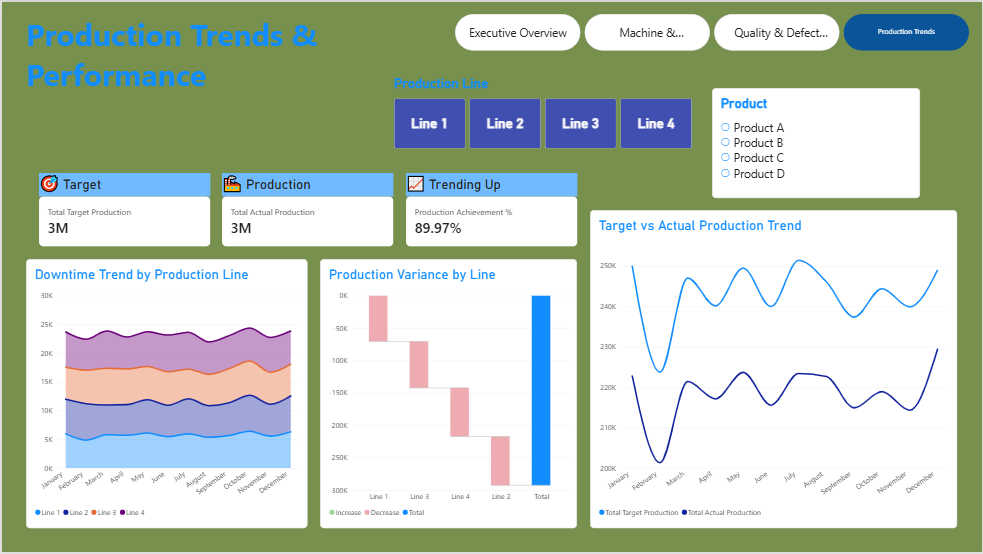

The page's visual inventory and layout, read from the dashboard file:
{"tool":"powerbi","page":{"name":"Production Trends","canvas":[1920,1080],"ordinal":3},"visuals":[{"type":"cardVisual","title":"🎯 Target","fields":{"Data":["manufacturing_production_data.Total Target Production"]},"box":[72,336,336,144],"z":0},{"type":"cardVisual","title":"🏭  Production","fields":{"Data":["manufacturing_production_data.Total Actual Production"]},"box":[432,336,336,144],"z":1},{"type":"cardVisual","title":"📈 Trending Up","fields":{"Data":["manufacturing_production_data.Production Achievement %"]},"box":[792,336,336,144],"z":2},{"type":"lineChart","title":"Target vs Actual Production Trend","fields":{"Category":["manufacturing_production_data.Date.Variation.Date Hierarchy.Month"],"Y":["manufacturing_production_data.Total Target Production","manufacturing_production_data.Total Actual Production"]},"box":[1152,408,720,624],"z":3},{"type":"stackedAreaChart","title":"Downtime Trend by Production Line","fields":{"Category":["manufacturing_production_data.Date.Variation.Date Hierarchy.Month"],"Y":["Sum(manufacturing_production_data.Downtime_Minutes)"],"Series":["manufacturing_production_data.Production_Line"]},"box":[48,504,552,528],"z":4},{"type":"waterfallChart","title":"Production Variance by Line","fields":{"Category":["manufacturing_production_data.Production_Line"],"Y":["manufacturing_production_data.Production Variance"]},"box":[624,504,504,528],"z":5},{"type":"advancedSlicerVisual","title":"Production Line","fields":{"Values":["manufacturing_production_data.Production_Line"]},"box":[768,144,672,144],"z":6},{"type":"listSlicer","fields":{"Values":["manufacturing_production_data.Product"]},"box":[1392,168,408,216],"z":7},{"type":"textbox","box":[48,24,696,216],"z":8},{"type":"pageNavigator","box":[888,24,1008,72],"z":9}]}

Visuals, with their boxes in screenshot pixels (x1, y1, x2, y2), scaled from the page's 1920x1080 canvas onto the 983x554 screenshot:
"🎯 Target" cardVisual: (37,172,209,246)
"🏭  Production" cardVisual: (221,172,393,246)
"📈 Trending Up" cardVisual: (405,172,578,246)
"Target vs Actual Production Trend" lineChart: (590,209,958,529)
"Downtime Trend by Production Line" stackedAreaChart: (25,259,307,529)
"Production Variance by Line" waterfallChart: (319,259,578,529)
"Production Line" advancedSlicerVisual: (393,74,737,148)
listSlicer - manufacturing_production_data.Product: (713,86,922,197)
textbox: (25,12,381,123)
pageNavigator: (455,12,971,49)
